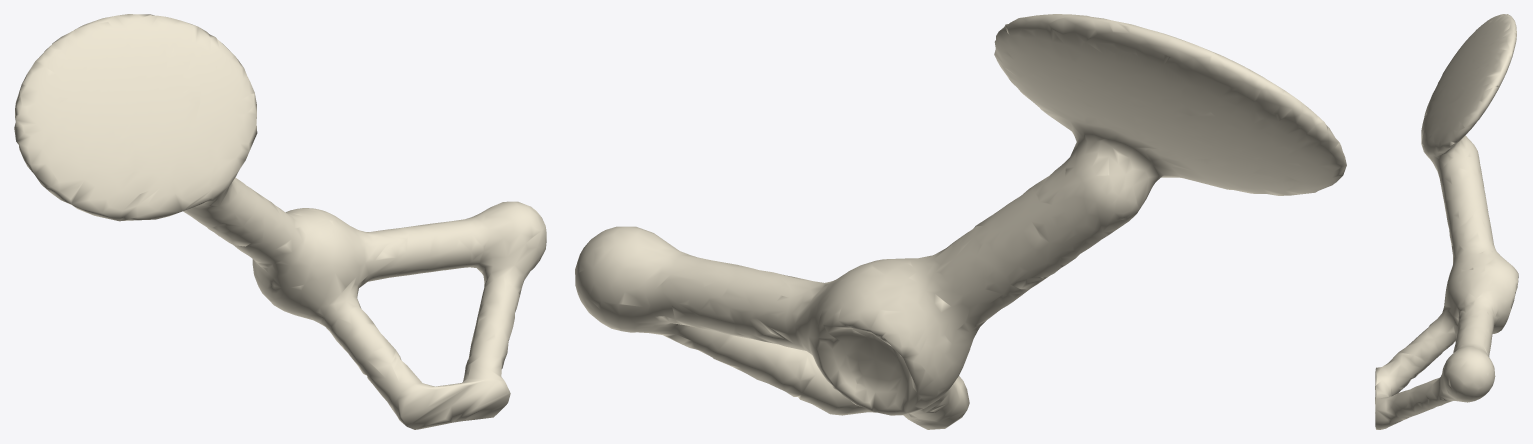
File: hip_r.glb
The picture shows the model from 3 angles, left to right: view 1: azimuth 30°, elevation 25°; view 2: azimuth 150°, elevation 25°; view 3: azimuth 270°, elevation 25°; orthographic projection. The views are drawn at different scales.
Visible parts, largest first — view 1: geometry_0; view 2: geometry_0; view 3: geometry_0.
Boxes of the visible parts, x1,y1,x2,y2 form: geometry_0: (14, 14, 546, 429); geometry_0: (575, 14, 1346, 429); geometry_0: (1375, 14, 1518, 429).
Bounding box in the file's own units: 0.8076 × 0.5927 × 0.2601.
